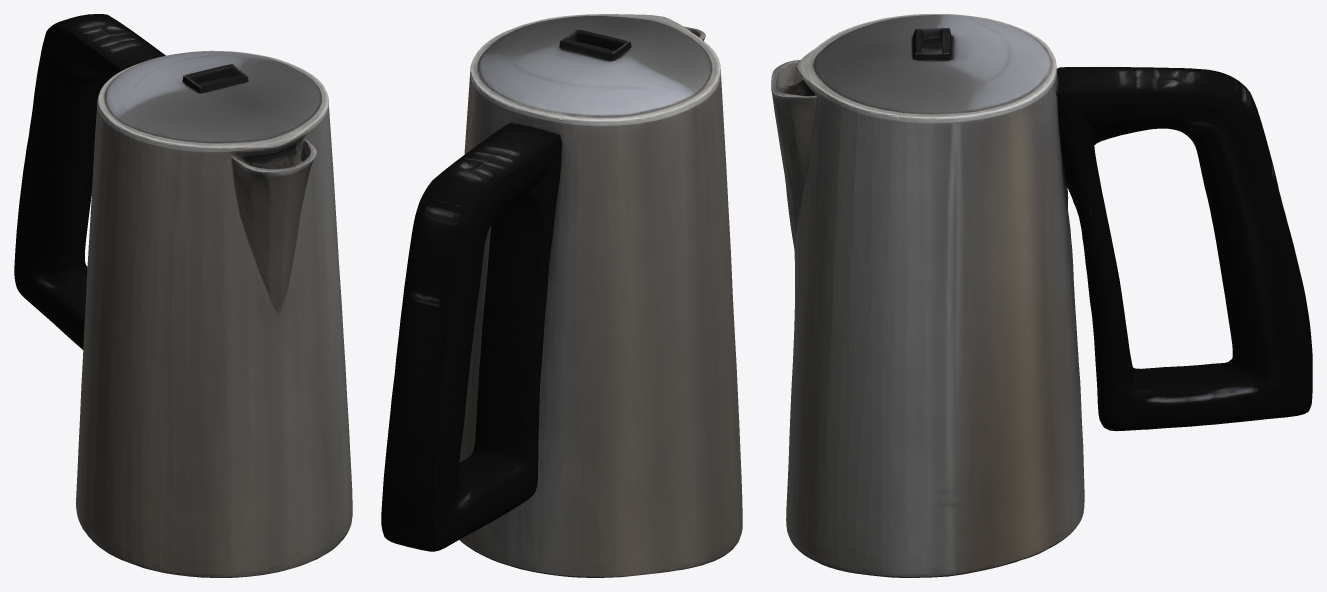
Rendered from kettle.glb.
The picture shows the model from 3 angles, left to right: view 1: azimuth 30°, elevation 25°; view 2: azimuth 150°, elevation 25°; view 3: azimuth 270°, elevation 25°; orthographic projection. The views are drawn at different scales.
Parts seen in each view (by area): view 1: reconstructed_mesh_unposed_0.glb; view 2: reconstructed_mesh_unposed_0.glb; view 3: reconstructed_mesh_unposed_0.glb.
Part boxes in pixels (x1,y1,x2,y2): reconstructed_mesh_unposed_0.glb: (14, 14, 352, 577); reconstructed_mesh_unposed_0.glb: (381, 14, 742, 577); reconstructed_mesh_unposed_0.glb: (771, 14, 1312, 577).
Size of the model in its own units: 0.5489 by 0.9896 by 1.
Materials: 1 (1 with a texture image).
